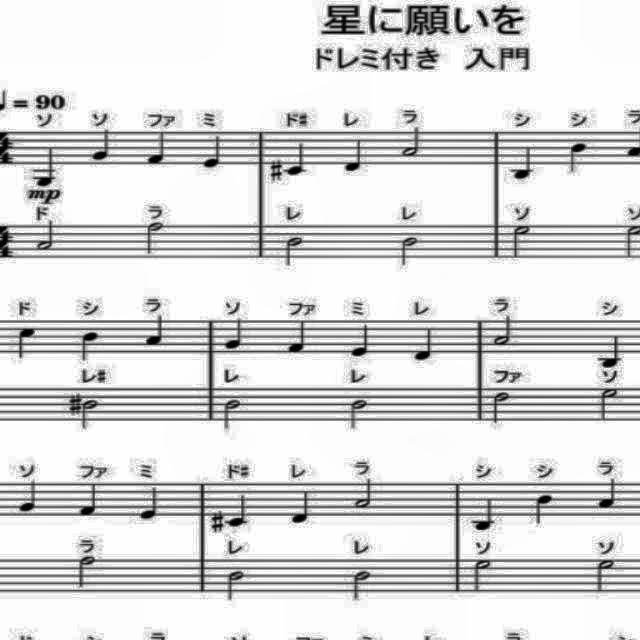Diez: (210, 505, 226, 535)
Half-note: (505, 219, 537, 265), (589, 558, 621, 596), (139, 218, 169, 258), (346, 566, 376, 606), (214, 396, 246, 432), (470, 556, 500, 594), (348, 396, 376, 436), (220, 568, 250, 604), (400, 125, 428, 163), (31, 217, 58, 256), (349, 476, 378, 512), (282, 233, 310, 270), (74, 554, 102, 590), (488, 310, 512, 350), (599, 385, 621, 427), (398, 233, 422, 270), (80, 396, 104, 432), (490, 388, 514, 424)
Quarter-note: (28, 140, 64, 188), (136, 310, 172, 350), (510, 142, 542, 186), (346, 320, 376, 366), (71, 482, 105, 522), (74, 323, 102, 367), (224, 490, 252, 534), (289, 484, 317, 528), (140, 129, 172, 167), (596, 332, 626, 372), (471, 496, 501, 536), (220, 315, 248, 357), (284, 316, 312, 358), (412, 321, 440, 363), (136, 485, 166, 523), (340, 136, 368, 174), (284, 140, 310, 180), (15, 326, 42, 364), (90, 128, 118, 164), (561, 138, 587, 176), (198, 130, 222, 170), (532, 490, 556, 530), (595, 476, 619, 516), (19, 478, 39, 518)
